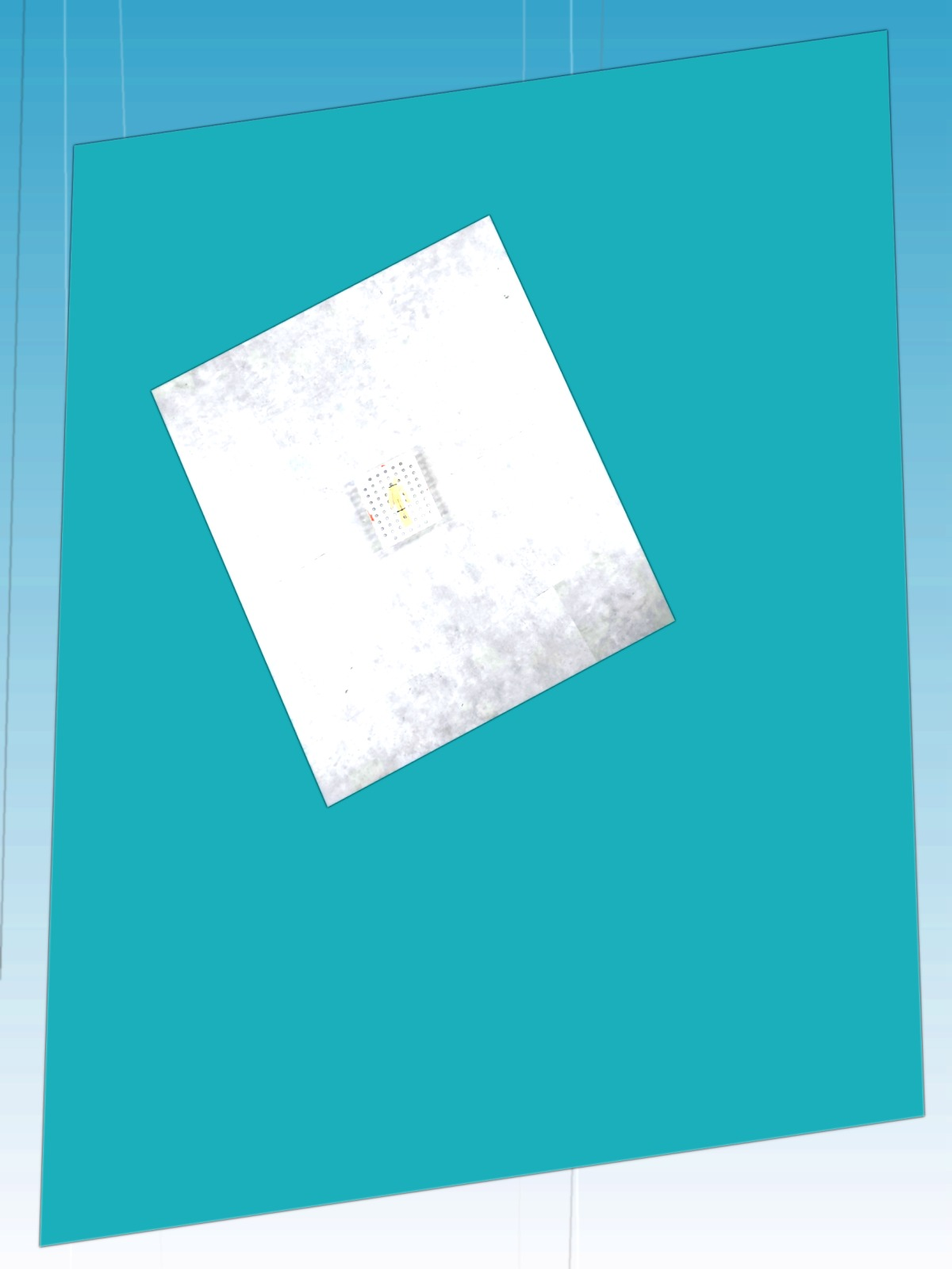basket: (349, 444, 446, 554)
mannequin: (386, 477, 412, 526)
